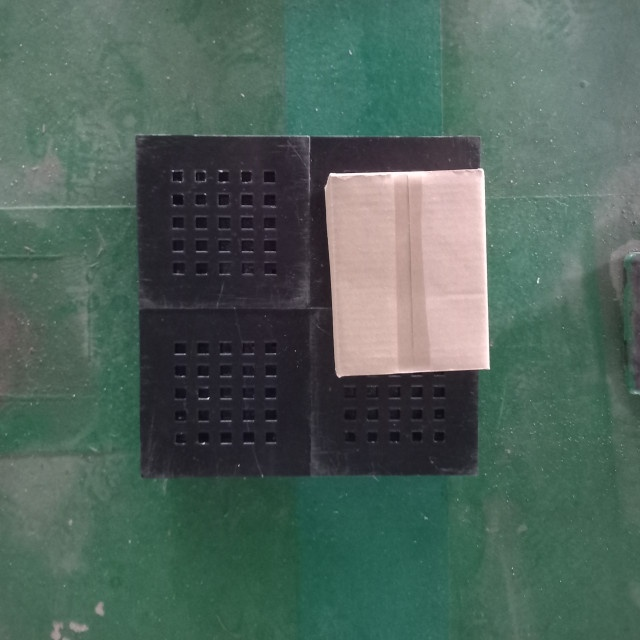box: (322, 165, 492, 381)
pallet: (132, 131, 488, 484)
